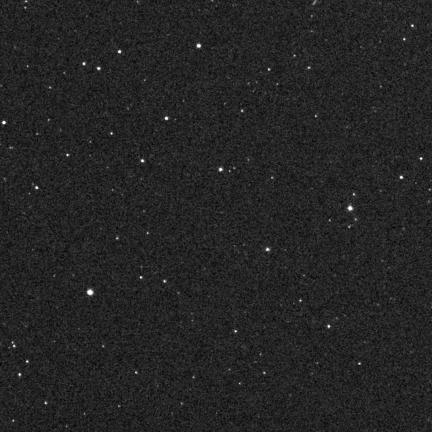blob: (87, 289, 95, 297)
